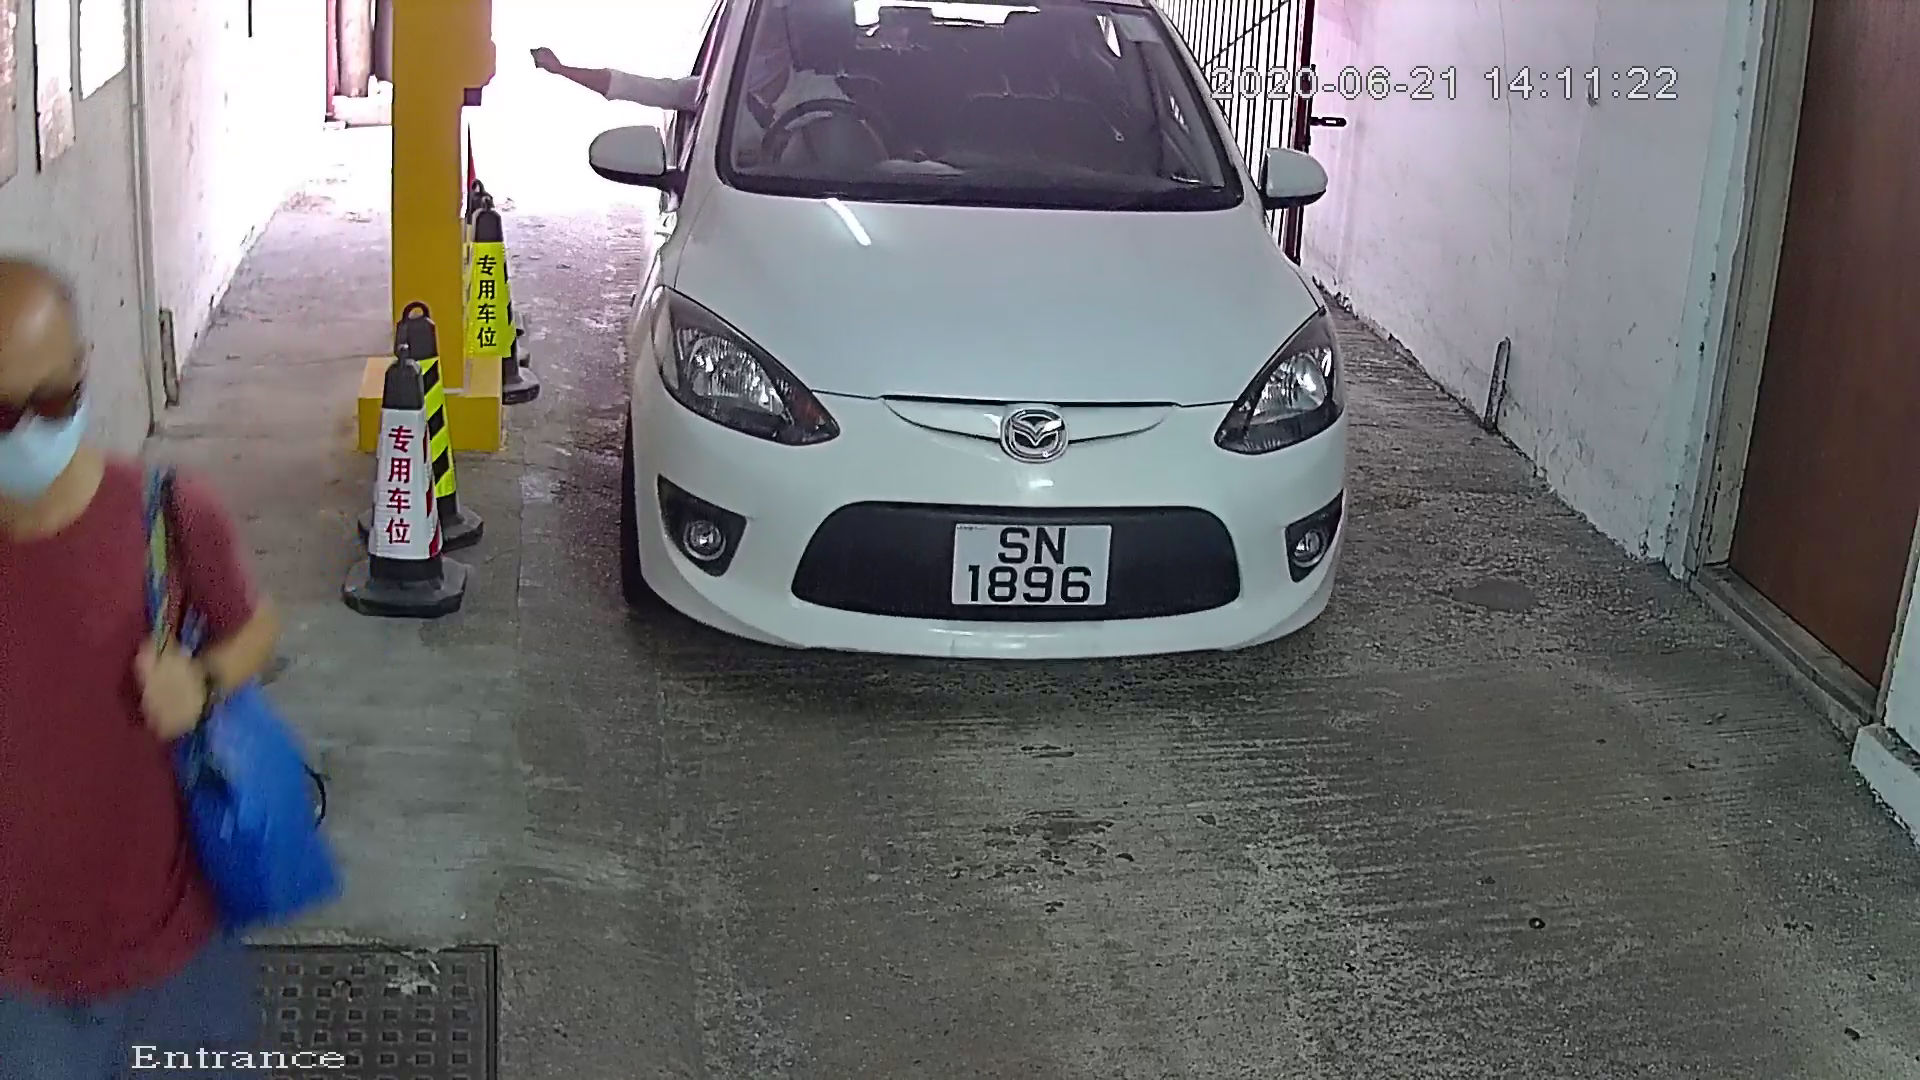privatecar: (554, 3, 1410, 781)
